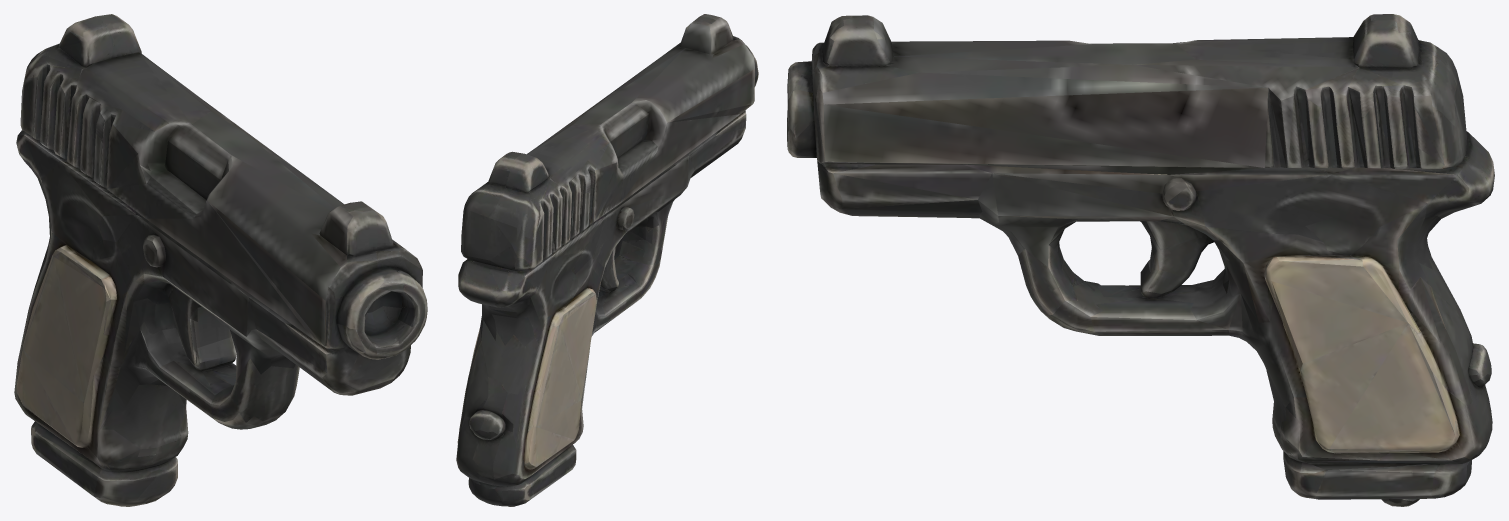
The model's file is gun_deuce.glb.
The picture shows the model from 3 angles, left to right: view 1: azimuth 30°, elevation 25°; view 2: azimuth 150°, elevation 25°; view 3: azimuth 270°, elevation 25°; orthographic projection. The views are drawn at different scales.
Size of the model in its own units: 0.0273 by 0.1212 by 0.16.
Materials: 1 (1 with a texture image).
